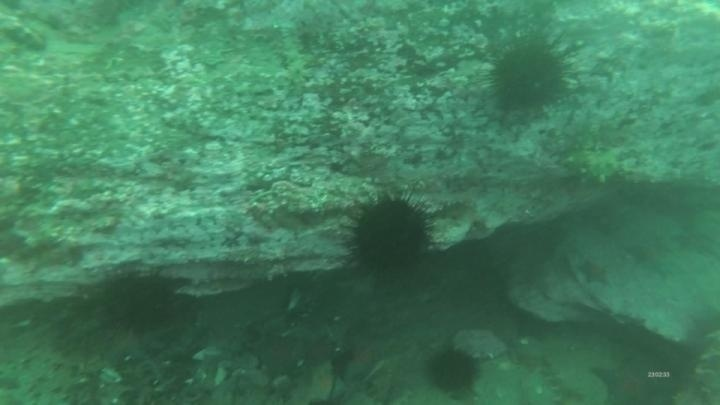echinus: (344, 191, 436, 279), (483, 32, 577, 116), (98, 269, 182, 337), (423, 343, 482, 398)
holothurian: (559, 140, 629, 187), (530, 354, 588, 404)
starfish: (588, 360, 665, 405), (625, 230, 679, 278), (299, 359, 345, 404), (343, 340, 385, 383), (576, 255, 613, 288)
